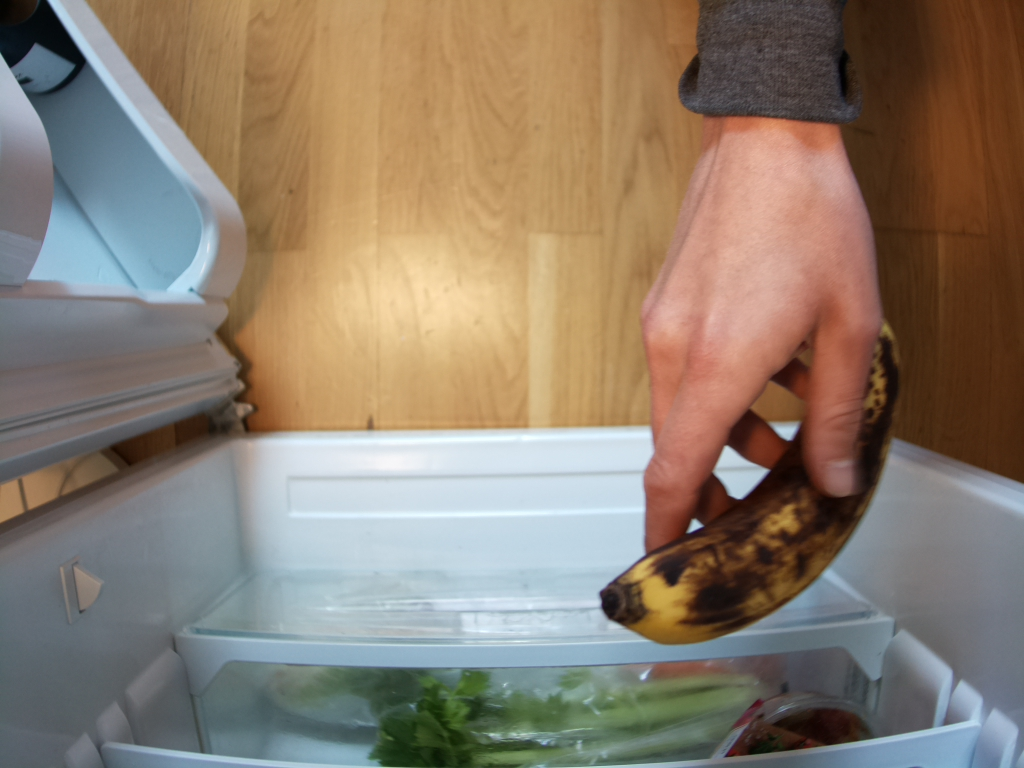banana-overripe: (601, 314, 898, 645)
